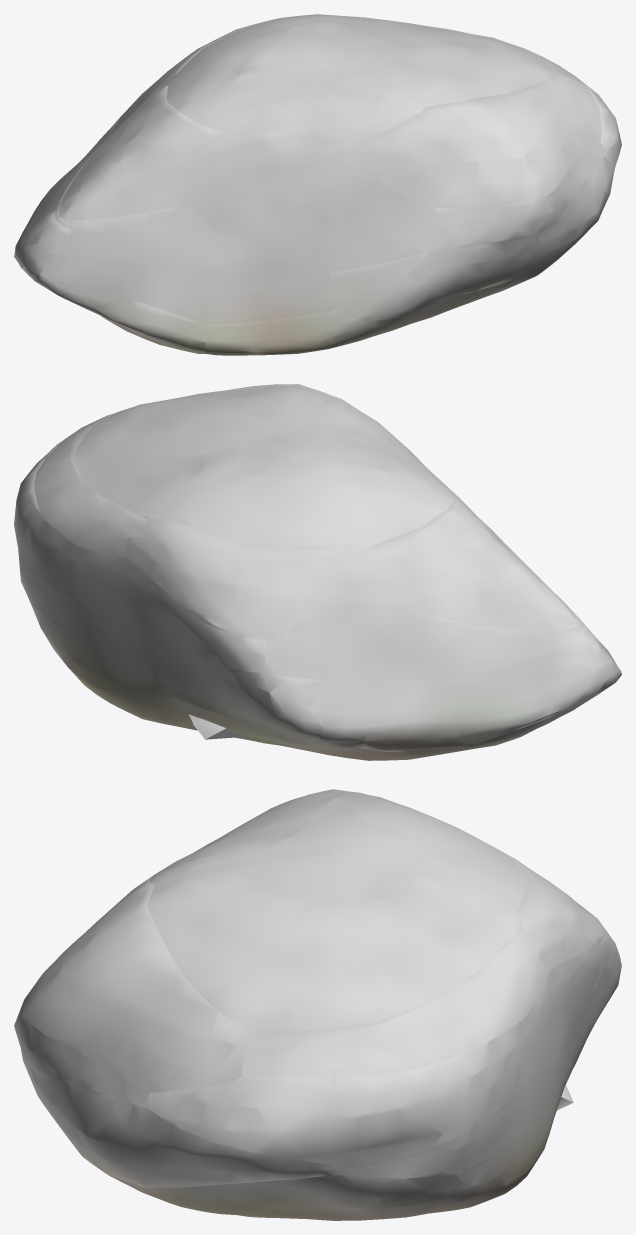
The model's file is coal_rock_v3.glb.
3 renders of one model, top to bottom at view 1: azimuth 30°, elevation 25°; view 2: azimuth 150°, elevation 25°; view 3: azimuth 270°, elevation 25°, orthographic. The views are drawn at different scales.
Parts seen in each view (by area): view 1: Chunk_24, Chunk_10, Chunk_17, Chunk_22, Chunk_29, Chunk_28, Chunk_11, Chunk_23, Chunk_04, Chunk_18, Chunk_27, Chunk_03 (+8 smaller); view 2: Chunk_09, Chunk_29, Chunk_21, Chunk_27, Chunk_22, Chunk_08, Chunk_14, Chunk_15, Chunk_25, Chunk_01, Chunk_28, Chunk_19 (+6 smaller); view 3: Chunk_29, Chunk_19, Chunk_24, Chunk_25, Chunk_12, Chunk_00, Chunk_27, Chunk_07, Chunk_14, Chunk_30, Chunk_21, Chunk_28 (+3 smaller).
Boxes of the visible parts, <box> form: Chunk_24: <box>365,71,601,209</box>; Chunk_10: <box>40,230,335,325</box>; Chunk_17: <box>203,189,453,272</box>; Chunk_22: <box>58,84,228,220</box>; Chunk_29: <box>299,14,554,107</box>; Chunk_28: <box>179,65,425,138</box>; Chunk_11: <box>329,232,540,319</box>; Chunk_23: <box>220,134,383,194</box>; Chunk_04: <box>205,310,402,355</box>; Chunk_18: <box>434,143,605,245</box>; Chunk_27: <box>167,16,305,110</box>; Chunk_03: <box>23,270,206,353</box>; Chunk_09: <box>319,624,618,752</box>; Chunk_29: <box>73,385,329,519</box>; Chunk_21: <box>123,517,375,640</box>; Chunk_27: <box>167,460,442,547</box>; Chunk_22: <box>365,492,577,627</box>; Chunk_08: <box>121,631,322,741</box>; Chunk_14: <box>75,547,266,672</box>; Chunk_15: <box>264,601,480,680</box>; Chunk_25: <box>34,415,148,556</box>; Chunk_01: <box>30,601,201,730</box>; Chunk_28: <box>314,396,454,511</box>; Chunk_19: <box>14,435,78,598</box>; Chunk_29: <box>147,853,520,1030</box>; Chunk_19: <box>145,1018,529,1166</box>; Chunk_24: <box>22,876,249,1092</box>; Chunk_25: <box>241,925,548,1075</box>; Chunk_12: <box>31,1066,344,1187</box>; Chunk_00: <box>105,1173,458,1220</box>; Chunk_27: <box>335,790,527,909</box>; Chunk_07: <box>344,1060,553,1177</box>; Chunk_14: <box>525,924,616,1078</box>; Chunk_30: <box>260,809,458,880</box>; Chunk_21: <box>487,843,603,971</box>; Chunk_28: <box>149,789,338,885</box>.
Size of the model in its own units: 3.43 by 1.38 by 2.52.
